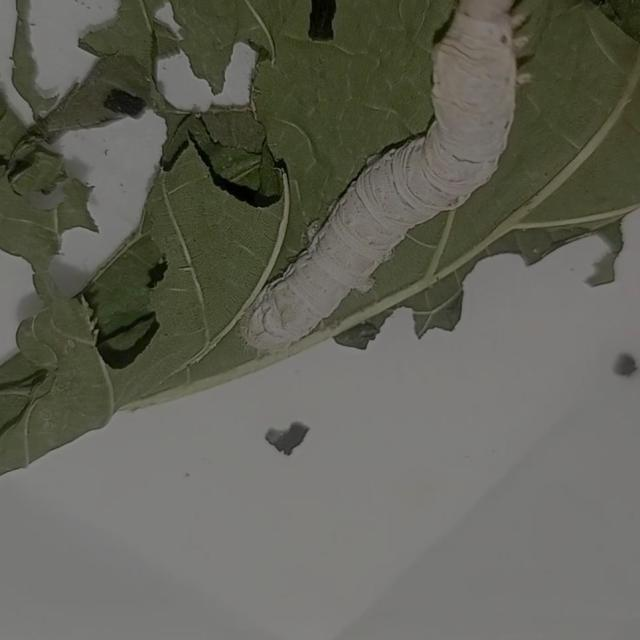Healthy: (231, 3, 531, 357)
